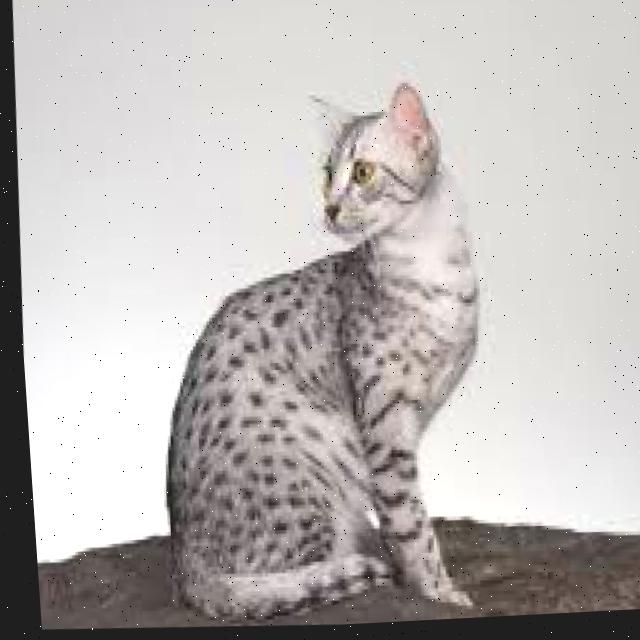Egyptian Mau: (127, 68, 502, 635)
